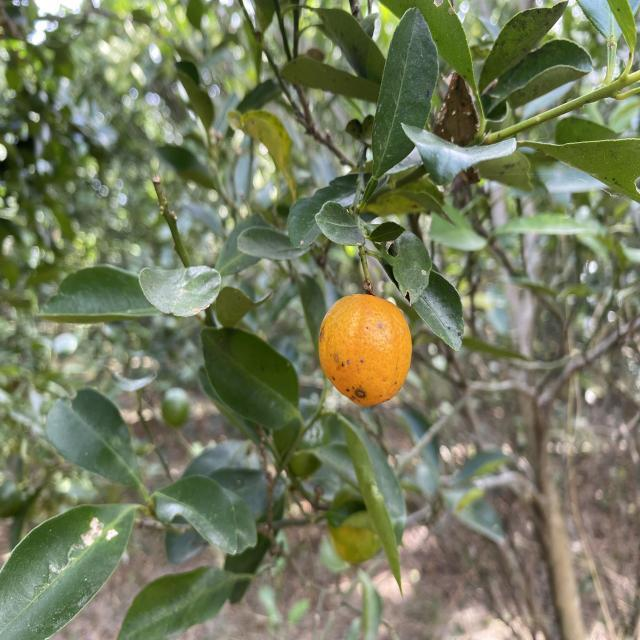black spot: (318, 296, 415, 404)
